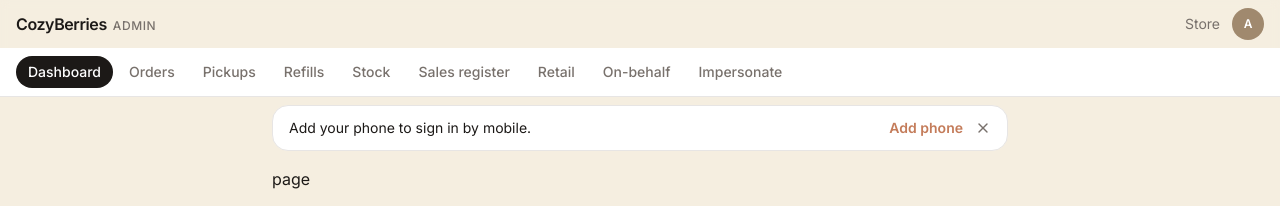
Scenario: AdminShell › shows the phone banner until dismissed, per user
Expected: the message "Add your phone" shows "Add your phone to sign in by mobile", 289,119 -> 531,136
Click the button named "Dismiss" at (983, 128), box 975,120 -> 991,136
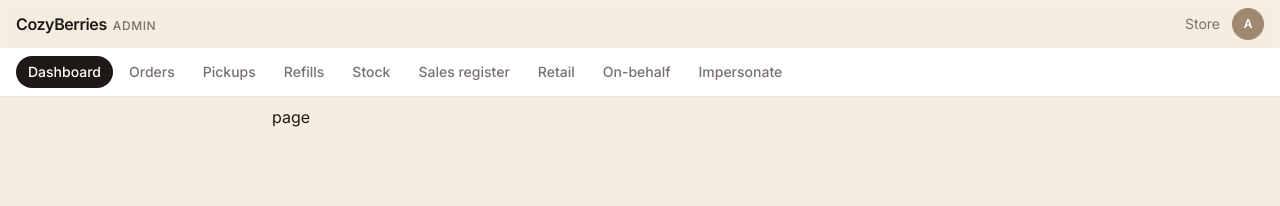
Expected: the text "Add your phone" is gone
